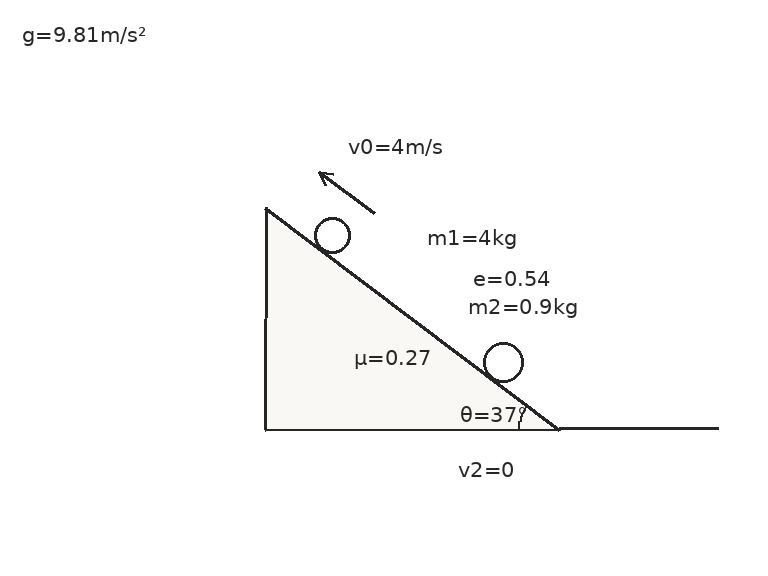ball: (481, 340, 525, 384), (312, 215, 352, 255)
ramp: (264, 206, 561, 431)
